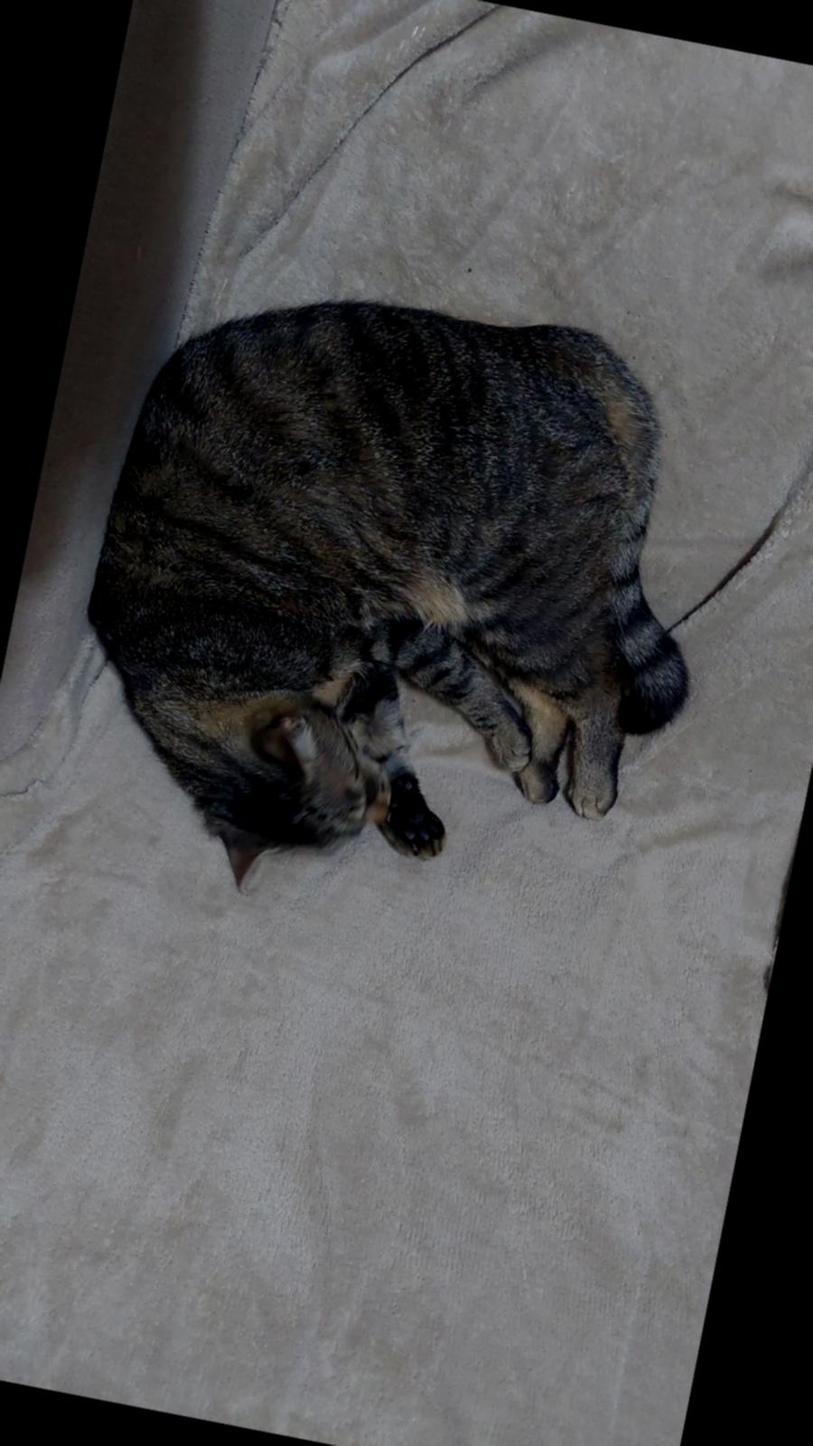macka: (43, 245, 758, 967)
